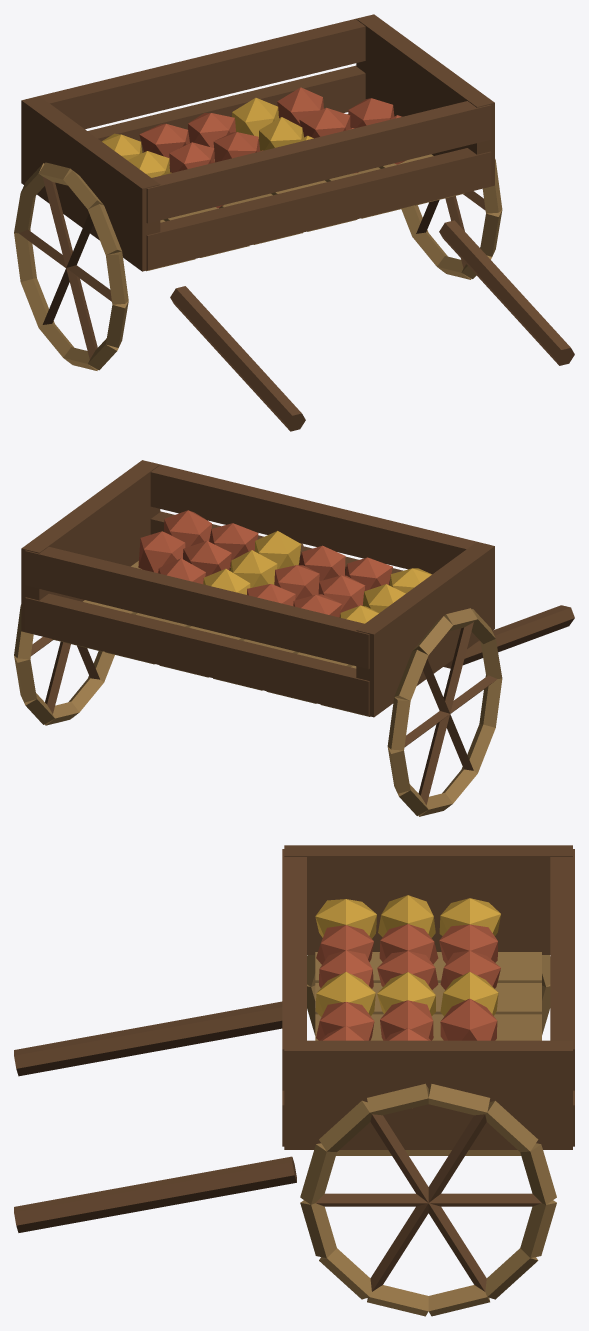
Rendered from meadow_cart.glb.
3 views of the same model, one above another, from view 1: azimuth 30°, elevation 25°; view 2: azimuth 150°, elevation 25°; view 3: azimuth 270°, elevation 25° (orthographic). The views are drawn at different scales.
Visible parts, largest first — view 1: meadow_cart_body; view 2: meadow_cart_body; view 3: meadow_cart_body.
Part boxes in pixels (box(x1,y1,x2,y2)): meadow_cart_body: box(14, 14, 574, 431); meadow_cart_body: box(14, 460, 574, 816); meadow_cart_body: box(14, 845, 574, 1316).
Bounding box in the file's own units: 2.61 × 1.39 × 2.72.
